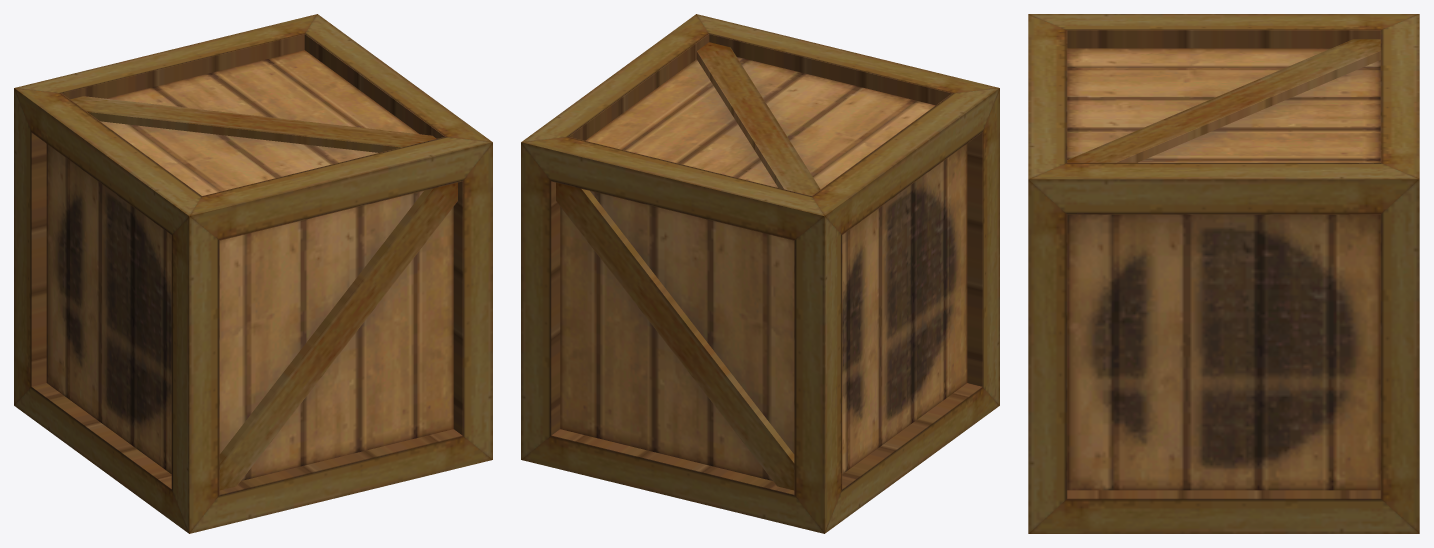
Rendered from ItmBox00.obj.
The picture shows the model from 3 angles, left to right: view 1: azimuth 30°, elevation 25°; view 2: azimuth 150°, elevation 25°; view 3: azimuth 270°, elevation 25°; orthographic projection. The views are drawn at different scales.
Visible parts, largest first — view 1: polygon1, polygon0, polygon3, polygon2; view 2: polygon1, polygon0, polygon3, polygon2; view 3: polygon3, polygon1, polygon0, polygon2.
Boxes of the visible parts, bbox=[...] form: polygon1: bbox=[14, 14, 492, 533]; polygon0: bbox=[100, 50, 453, 480]; polygon3: bbox=[46, 144, 171, 473]; polygon2: bbox=[70, 96, 457, 490]; polygon1: bbox=[521, 14, 999, 533]; polygon0: bbox=[560, 57, 935, 480]; polygon3: bbox=[842, 144, 967, 473]; polygon2: bbox=[556, 42, 820, 490]; polygon3: bbox=[1067, 214, 1380, 490]; polygon1: bbox=[1028, 14, 1419, 533]; polygon0: bbox=[1067, 48, 1380, 162]; polygon2: bbox=[1067, 39, 1380, 162].
Bounding box in the file's own units: 15 × 15 × 15.
1 material, 1 textured.
